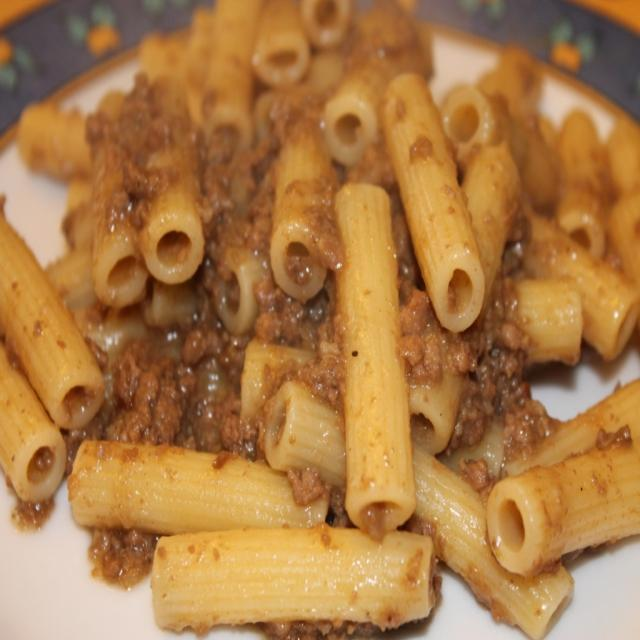Pasta al ragu: (23, 37, 607, 630)
